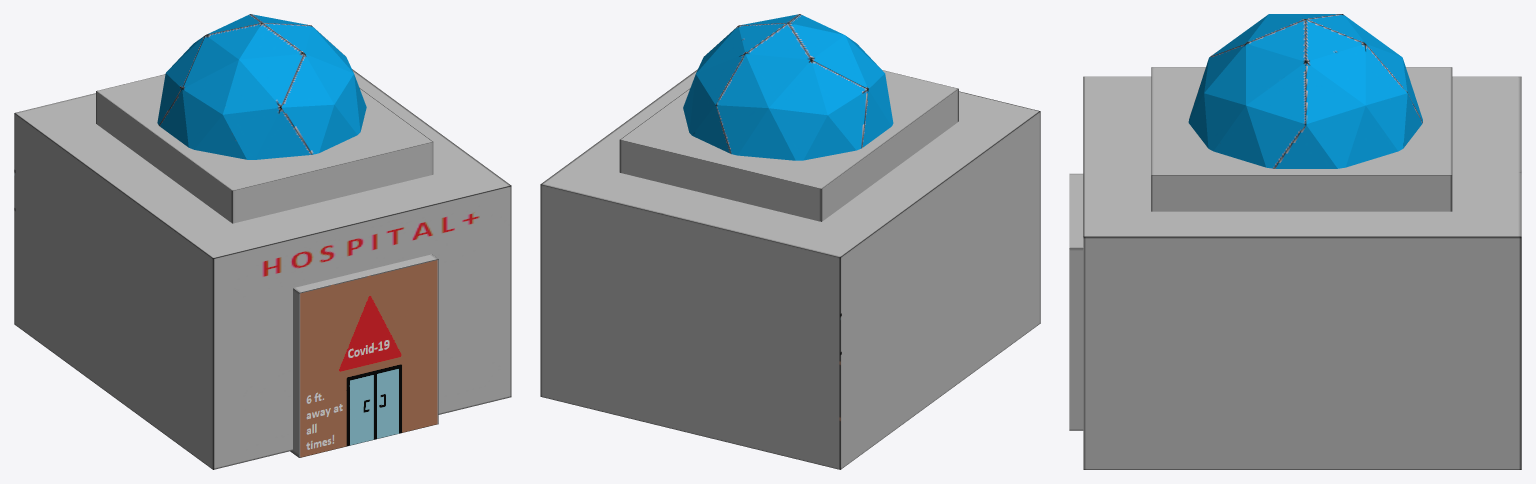
The model's file is hospital.obj.
3 renders of one model, left to right at view 1: azimuth 30°, elevation 25°; view 2: azimuth 150°, elevation 25°; view 3: azimuth 270°, elevation 25°, orthographic. The views are drawn at different scales.
Visible parts, largest first — view 1: Cube, Cube.002, Icosphere, Cube.001; view 2: Cube, Icosphere, Cube.001; view 3: Cube, Icosphere, Cube.001, Cube.002.
Part boxes in pixels (x1=…): Cube: x1=14, y1=69, x2=511, y2=469; Cube.002: x1=290, y1=254, x2=438, y2=457; Icosphere: x1=157, y1=14, x2=366, y2=159; Cube.001: x1=96, y1=74, x2=433, y2=223; Cube: x1=540, y1=69, x2=1040, y2=469; Icosphere: x1=683, y1=14, x2=893, y2=160; Cube.001: x1=619, y1=70, x2=958, y2=221; Cube: x1=1083, y1=76, x2=1521, y2=469; Icosphere: x1=1188, y1=14, x2=1422, y2=168; Cube.001: x1=1151, y1=67, x2=1452, y2=211; Cube.002: x1=1069, y1=173, x2=1083, y2=430.
Bounding box in the file's own units: 34.56 × 37.56 × 41.16.
